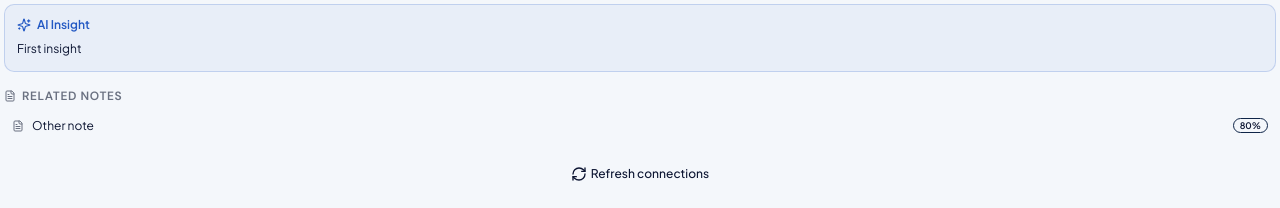
Test: ConnectionsPanel daily cache › refresh button bypasses the cache and overwrites it with the fresh result
This screenshot has width=1280, height=208.
Check: the text "First insight" is shown, box [17,41,82,56]
Click the button "Refresh connections". click: (640, 174)
box: [4,156,1276,192]
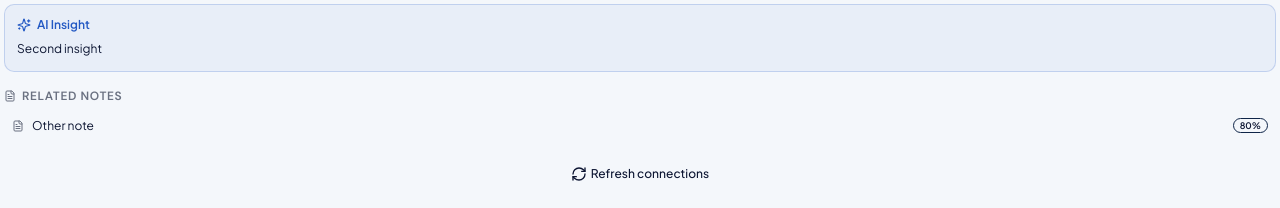
Check: the text "Second insight" is shown, box [17,41,102,56]
